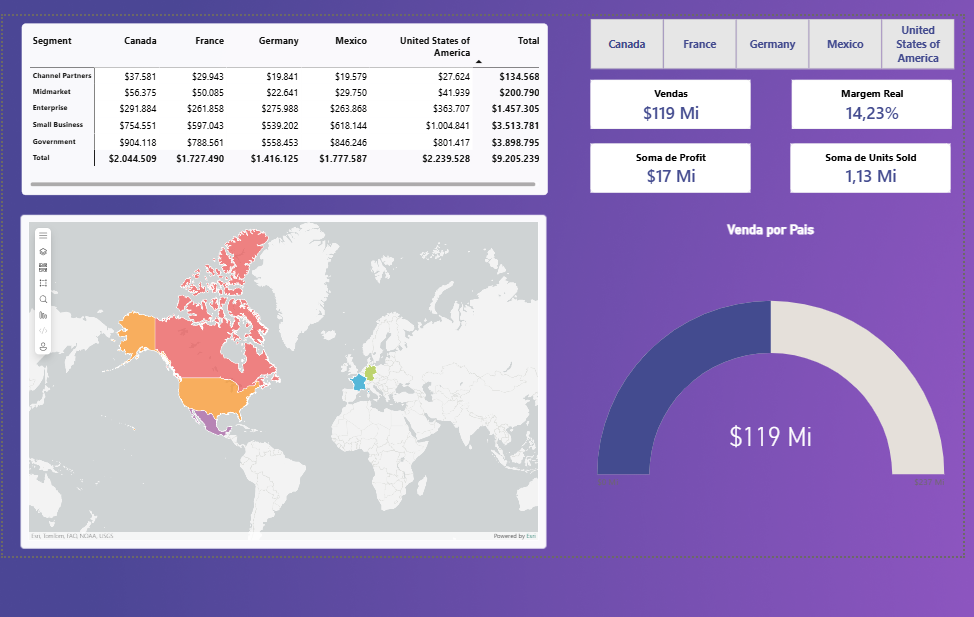

The dashboard page shown, as its layout file describes it:
{"tool":"powerbi","page":{"name":"Analise por país","canvas":[1920,1080],"ordinal":2},"visuals":[{"type":"cardVisual","fields":{"Data":["Sum(financials.Sales)"]},"box":[1175.7,128.6,320,98.6],"z":0},{"type":"cardVisual","fields":{"Data":["Sum(financials.Profit)"]},"box":[1175.7,254.3,320,98.6],"z":1000},{"type":"cardVisual","fields":{"Data":["financials.Margem Real"]},"box":[1578.6,128.6,320,98.6],"z":2000},{"type":"cardVisual","fields":{"Data":["Sum(financials.Units Sold)"]},"box":[1575.7,254.3,320,98.6],"z":3000},{"type":"pivotTable","fields":{"Columns":["financials.Country"],"Rows":["financials.Segment"],"Values":["Sum(financials.Discounts)"]},"box":[36.7,15,1051.7,343.3],"z":4000},{"type":"esriVisual","fields":{"Color":["financials.Country"],"Location":["financials.Country"]},"box":[36,398,1052,668],"z":5000},{"type":"gauge","title":"Venda por Pais","fields":{"Y":["Sum(financials.Sales)"]},"box":[1172,398,726,682],"z":6000},{"type":"slicer","fields":{"Values":["financials.Country"]},"box":[1154,2,766,104],"z":7000}]}

Visuals, with their boxes in screenshot pixels (x1, y1, x2, y2):
cardVisual - Sum(financials.Sales): box(588, 77, 748, 126)
cardVisual - Sum(financials.Profit): box(588, 140, 748, 189)
cardVisual - financials.Margem Real: box(790, 77, 950, 126)
cardVisual - Sum(financials.Units Sold): box(788, 140, 948, 189)
pivotTable - financials.Country x financials.Segment: box(18, 20, 545, 192)
esriVisual - financials.Country x financials.Country: box(18, 212, 544, 546)
"Venda por Pais" gauge: box(586, 212, 950, 553)
slicer - financials.Country: box(577, 14, 961, 66)
